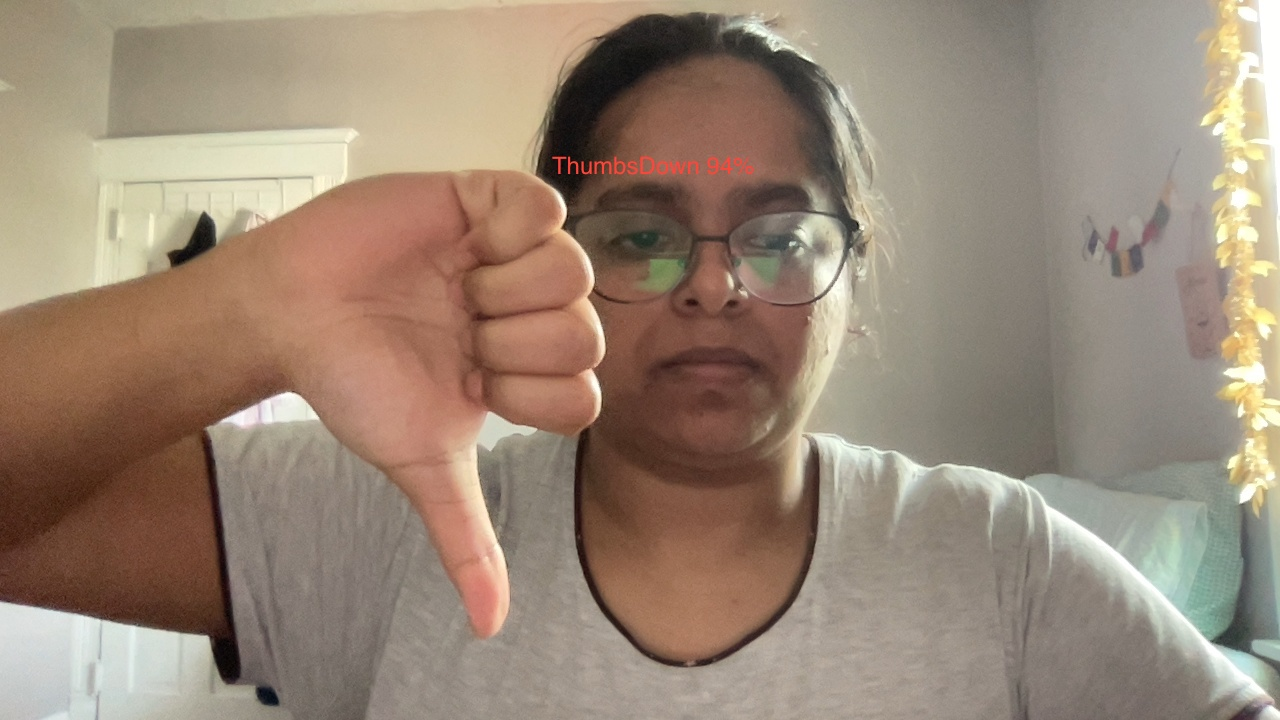ThumbsDown: (272, 169, 607, 638)
